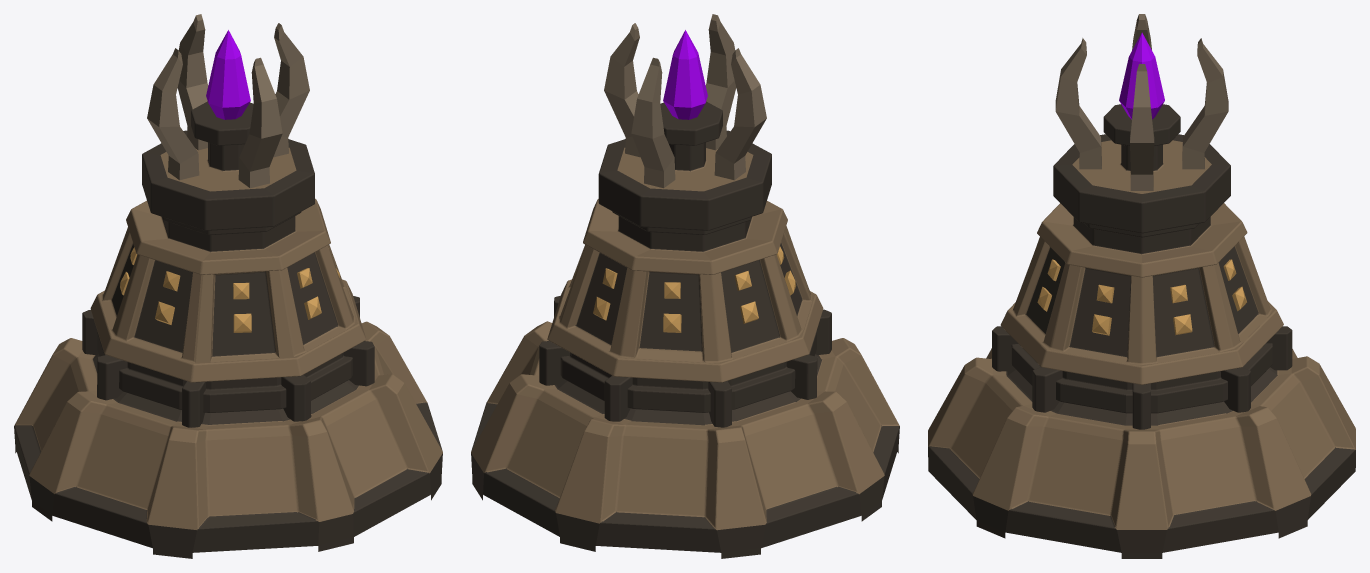
Rendered from MagicV1.fbx.
3 views of the same model, side by side, from view 1: azimuth 30°, elevation 25°; view 2: azimuth 150°, elevation 25°; view 3: azimuth 270°, elevation 25° (orthographic).
Visible parts, largest first — view 1: Tower, Cube.003, Cube.002, Sphere, Cube, Cube.001, Metals; view 2: Tower, Cube.001, Cube.002, Sphere, Cube, Cube.003, Metals; view 3: Tower, Cube.003, Cube.001, Cube, Metals, Sphere.
Boxes of the visible parts, x1=… form: Tower: x1=14, y1=101, x2=442, y2=558; Cube.003: x1=238, y1=57, x2=282, y2=188; Cube.002: x1=147, y1=48, x2=199, y2=180; Sphere: x1=206, y1=30, x2=250, y2=119; Cube: x1=273, y1=23, x2=309, y2=157; Cube.001: x1=177, y1=14, x2=208, y2=150; Metals: x1=120, y1=247, x2=339, y2=332; Tower: x1=471, y1=101, x2=899, y2=558; Cube.001: x1=631, y1=57, x2=675, y2=188; Cube.002: x1=714, y1=48, x2=766, y2=180; Sphere: x1=663, y1=30, x2=707, y2=119; Cube: x1=604, y1=23, x2=640, y2=157; Cube.003: x1=705, y1=14, x2=736, y2=150; Metals: x1=574, y1=246, x2=796, y2=332; Tower: x1=928, y1=104, x2=1355, y2=558; Cube.003: x1=1055, y1=38, x2=1101, y2=169; Cube.001: x1=1182, y1=38, x2=1228, y2=169; Cube: x1=1130, y1=64, x2=1154, y2=190; Metals: x1=1037, y1=259, x2=1246, y2=335; Sphere: x1=1119, y1=32, x2=1164, y2=119.
Bounding box in the file's own units: 227 × 256 × 227.
